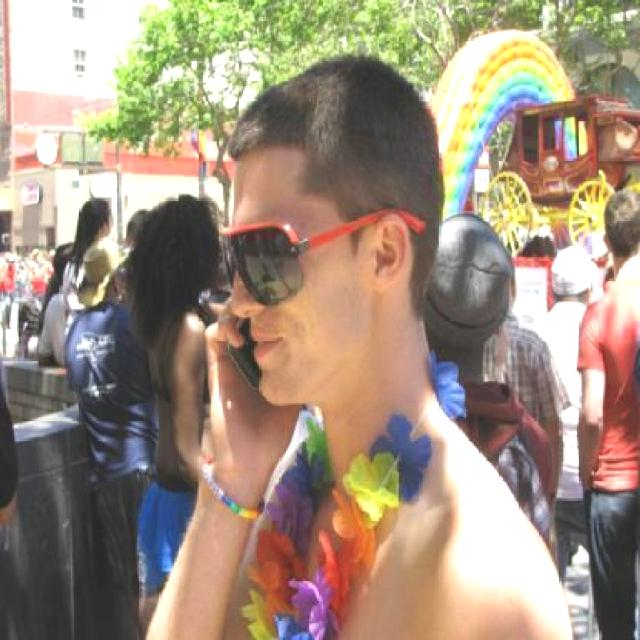face_nomask: (222, 222, 306, 368)
glasses: (221, 218, 425, 312)
head_nohelmet: (215, 58, 438, 176), (143, 188, 220, 267), (77, 196, 112, 218)
person: (151, 58, 558, 640)
